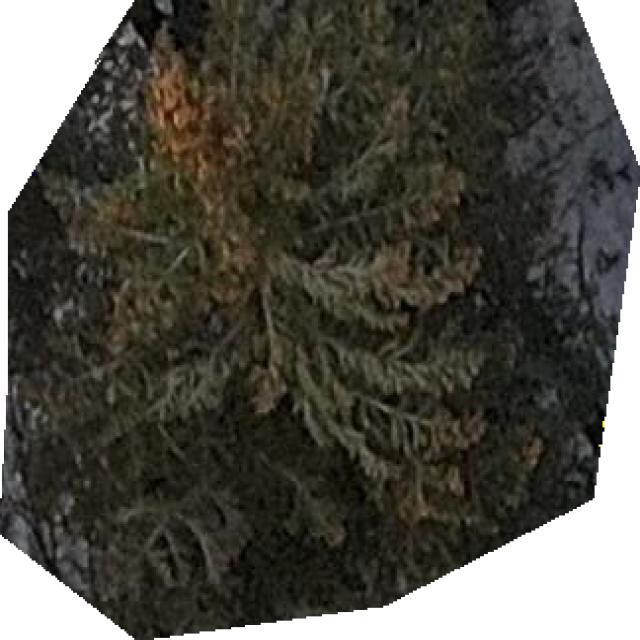spruce: (0, 0, 638, 638)
